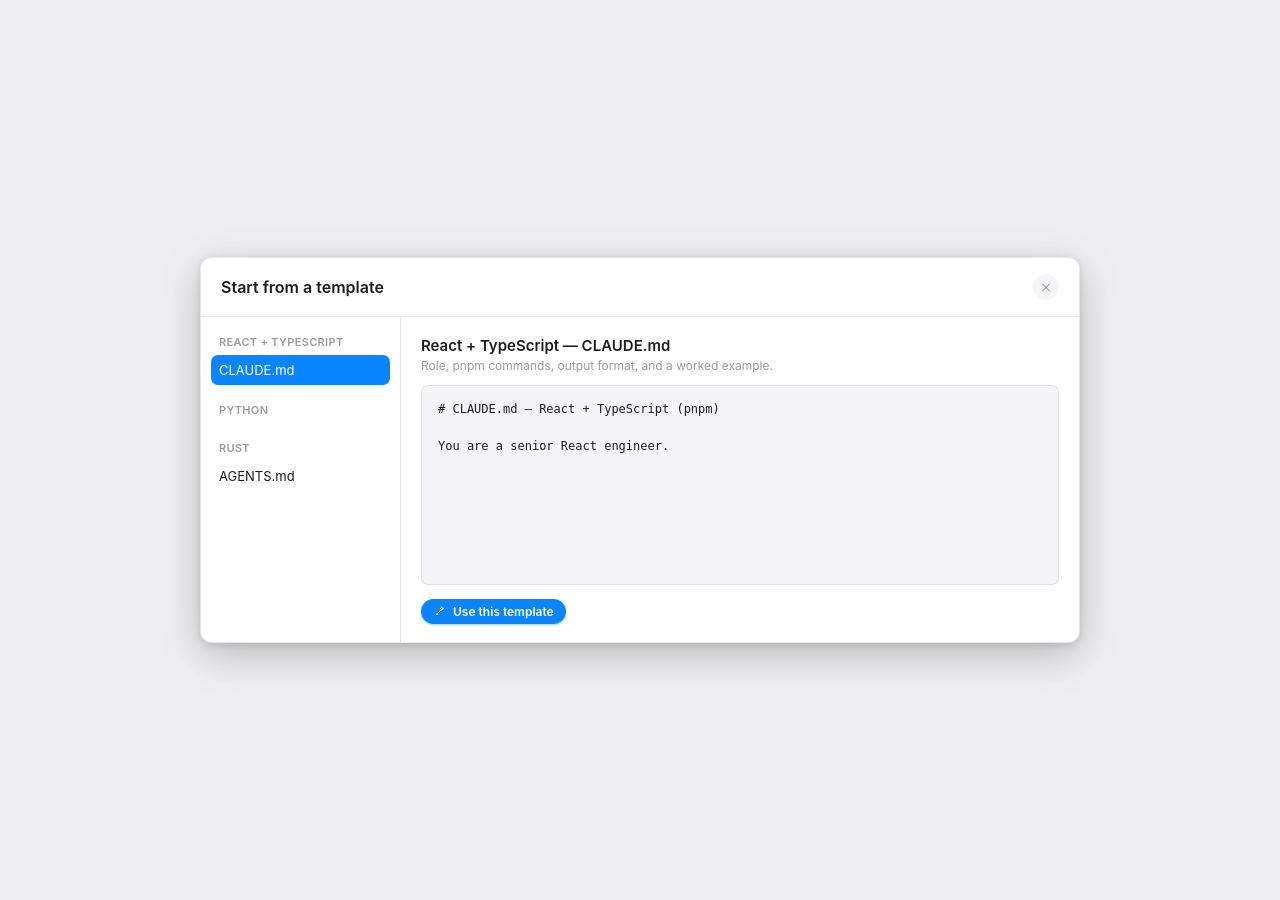
Test: TemplatePicker — entitled › surfaces an apply error instead of silently doing nothing
Click the button "Use this template".
click(493, 611)  # box [421,599,566,624]
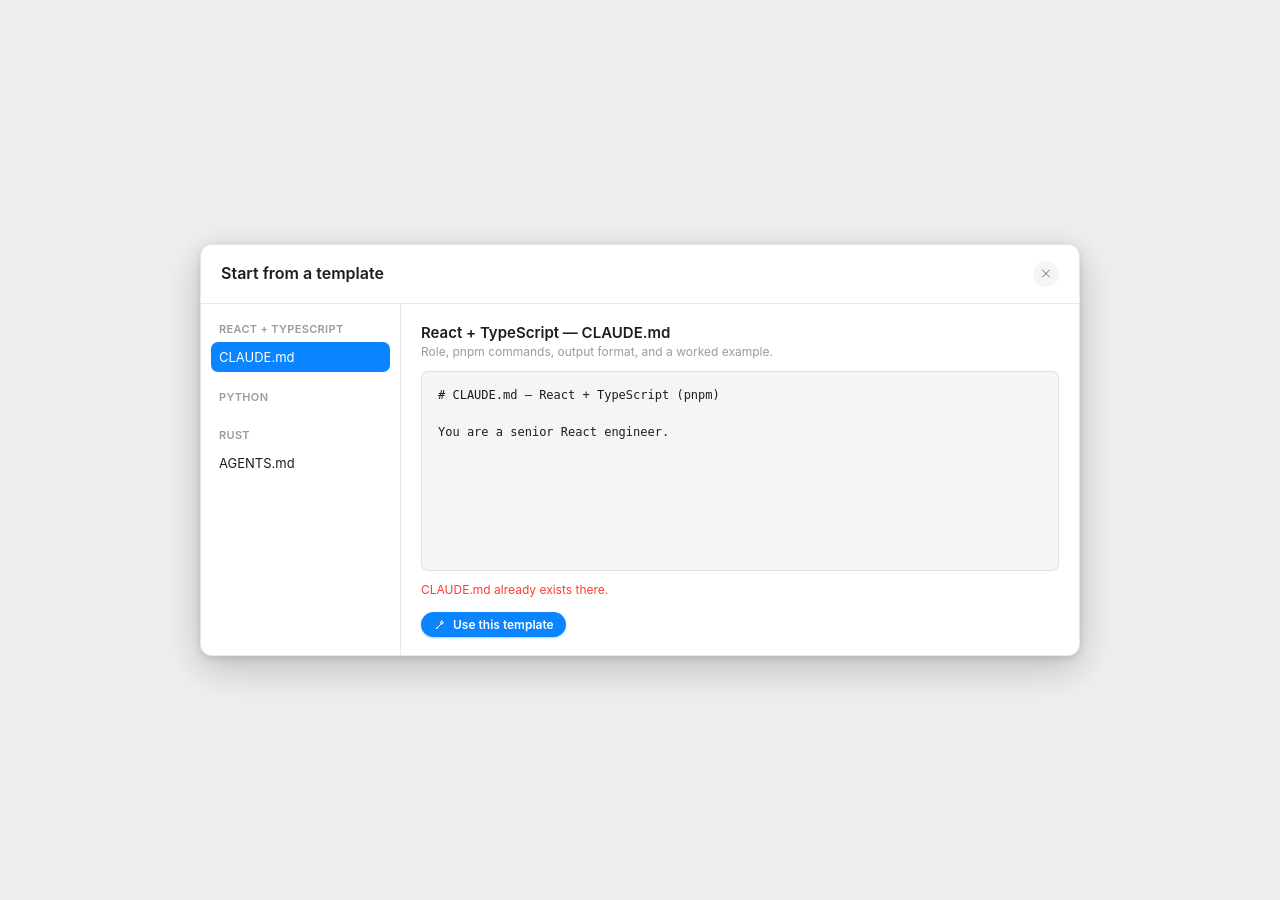
Now the text "CLAUDE.md already exists there." is shown, box [421,582,608,597]
